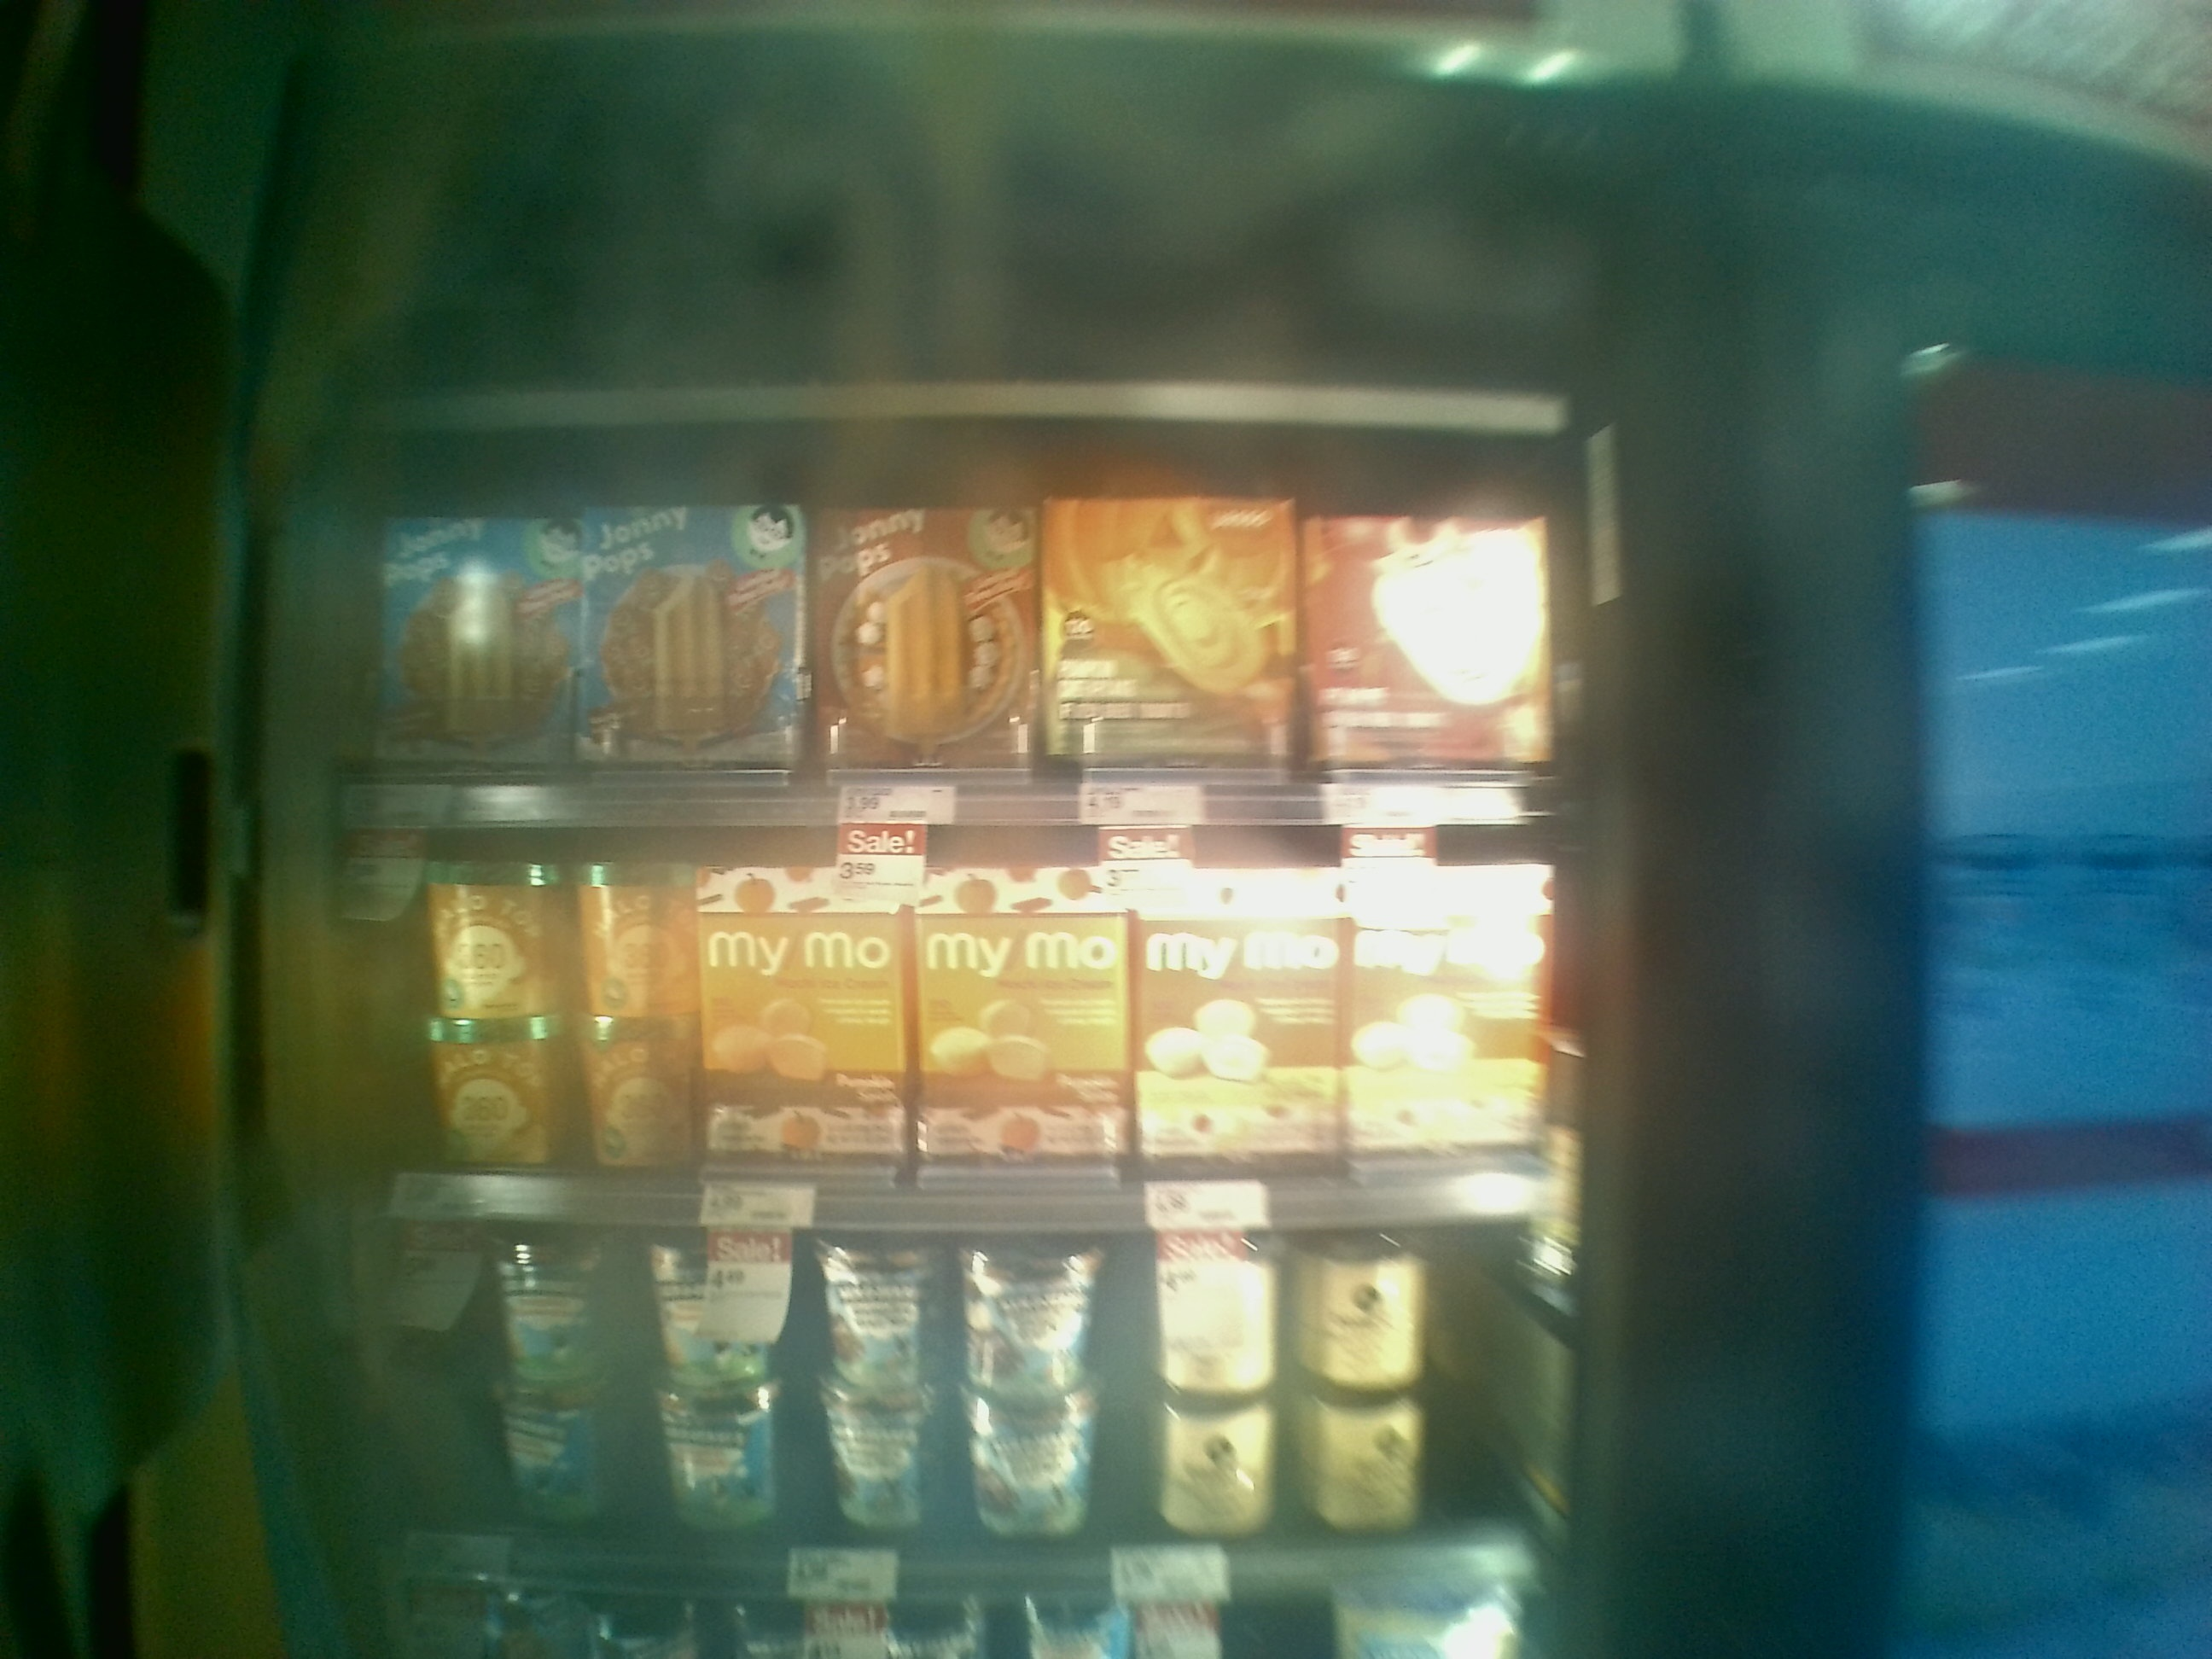shelf: (312, 781, 1571, 1230), (324, 390, 1594, 826), (286, 1190, 1555, 1586)
